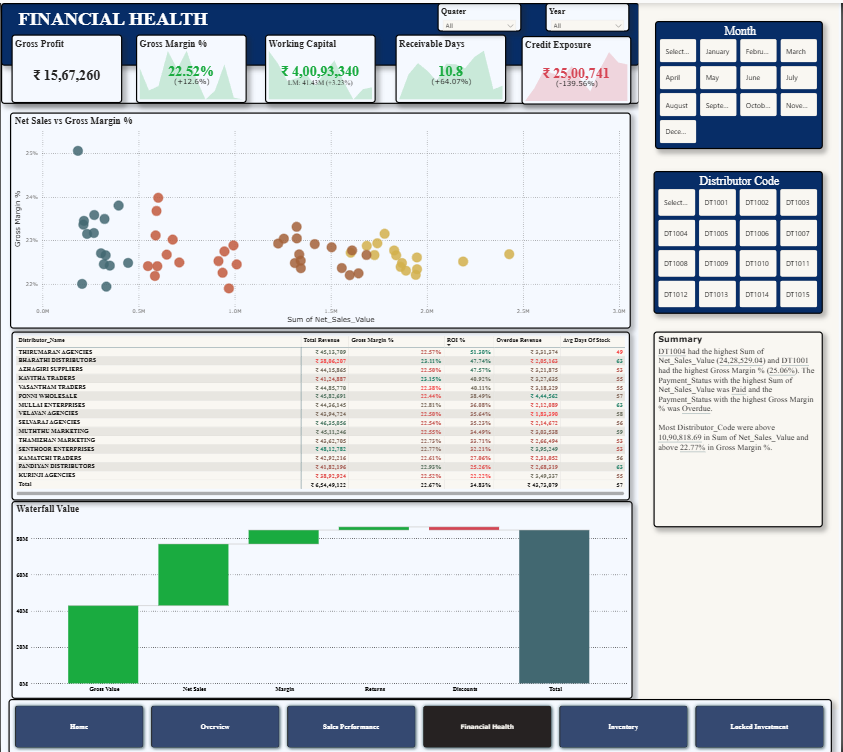

Layout of this report page (visuals, bound fields, positions):
{"tool":"powerbi","page":{"name":"Financial Health","canvas":[1900,1700],"ordinal":3},"visuals":[{"type":"textbox","box":[0,60,1445,167.5],"z":0},{"type":"shape","box":[0,0,1445,142.2],"z":1000},{"type":"textbox","box":[1441.8,0,453.1,1599.1],"z":1000,"group":"g1"},{"type":"waterfallChart","title":"Waterfall Value","fields":{"Category":["Waterfall.STEP"],"Y":["Waterfall.Waterfall Value"]},"box":[23.8,1127.3,1405.8,448.2],"z":2000},{"type":"pivotTable","fields":{"Rows":["Distirbutor.Distributor_Name"],"Values":["_Measures.Total Revenue","_Measures.Gross Margin %","_Measures.ROI %","_Measures.Overdue Revenue","_Measures.Avg Days Of Stock"]},"box":[22.5,742.5,1400,382.5],"z":3000},{"type":"scatterChart","title":"Net Sales vs Gross Margin %","fields":{"X":["Sum(Raw_Sales_Revenue.Net_Sales_Value)"],"Y":["_Measures.Gross Margin %"],"Category":["Distirbutor.Distributor_Code"],"Series":["Raw_Sales_Revenue.Payment_Status"]},"box":[20.4,247.9,1405,489],"z":4000},{"type":"kpi","title":"Credit Exposure","fields":{"Indicator":["_Measures.Credit Exposure"],"Goal":["_Measures.Credit Exposure Target"],"TrendLine":["Dim_Date.Date.Variation.Date Hierarchy.Month"]},"box":[1179.5,74.3,248.4,155.6],"z":6000},{"type":"kpi","title":"Receivable Days ","fields":{"Indicator":["_Measures.Receivable Days"],"Goal":["_Measures.Receivable Days Target"],"TrendLine":["Dim_Date.Date.Variation.Date Hierarchy.Month"]},"box":[893.9,72,250.8,155.6],"z":7000},{"type":"advancedSlicerVisual","title":"Month","fields":{"Values":["Dim_Date.Date.Variation.Date Hierarchy.Month"]},"box":[1479,40,380,290],"z":8000,"group":"g1"},{"type":"kpi","title":"Working Capital ","fields":{"Indicator":["_Measures.Working Capital"],"TrendLine":["Dim_Date.Date.Variation.Date Hierarchy.Month"],"Goal":["_Measures.Last Month Working Capital"]},"box":[596.7,72,250.8,155.6],"z":8000},{"type":"kpi","title":"Gross Margin % ","fields":{"Indicator":["_Measures.Gross Margin %"],"Goal":["_Measures.Target Margin"],"TrendLine":["Dim_Date.Date.Variation.Date Hierarchy.Month"]},"box":[306.5,72,250.8,155.6],"z":9000},{"type":"advancedSlicerVisual","title":"Distributor Code","fields":{"Values":["Distirbutor.Distributor_Code"]},"box":[1475.7,380,383.3,323.3],"z":9000,"group":"g1"},{"type":"kpi","title":"Gross Profit","fields":{"Indicator":["_Measures.Gross Profit"],"TrendLine":["Dim_Date.Date.Variation.Date Hierarchy.Month"]},"box":[23.2,72,250.8,155.6],"z":10000},{"type":"slicer","title":"Year","fields":{"Values":["Dim_Date.Year"]},"box":[1232.6,0,190.2,64.5],"z":10250},{"type":"slicer","title":"Quater","fields":{"Values":["Dim_Date.Quarter"]},"box":[988.1,0,190.2,64.5],"z":10375},{"type":"group","id":"g1","title":"Group 2","box":[1441.8,0,453.1,1599.1],"z":11000},{"type":"textbox","title":"Summary","box":[1476.7,743.3,383.3,443.3],"z":12000},{"type":"pageNavigator","box":[17,1575.5,1864.2,125.6],"z":13000},{"type":"textbox","box":[32.7,5.8,523.1,65.4],"z":14000}]}

Visuals, with their boxes in screenshot pixels (x1, y1, x2, y2), scaled from the page's 1900x1700 canvas onto the 843x752 screenshot:
textbox: <region>0, 27, 641, 101</region>
shape: <region>0, 0, 641, 63</region>
textbox: <region>640, 0, 841, 707</region>
"Waterfall Value" waterfallChart: <region>11, 499, 634, 697</region>
pivotTable - Distirbutor.Distributor_Name x _Measures.Total Revenue: <region>10, 328, 631, 498</region>
"Net Sales vs Gross Margin %" scatterChart: <region>9, 110, 632, 326</region>
"Credit Exposure" kpi: <region>523, 33, 634, 102</region>
"Receivable Days " kpi: <region>397, 32, 508, 101</region>
"Month" advancedSlicerVisual: <region>656, 18, 825, 146</region>
"Working Capital " kpi: <region>265, 32, 376, 101</region>
"Gross Margin % " kpi: <region>136, 32, 247, 101</region>
"Distributor Code" advancedSlicerVisual: <region>655, 168, 825, 311</region>
"Gross Profit" kpi: <region>10, 32, 122, 101</region>
"Year" slicer: <region>547, 0, 631, 29</region>
"Quater" slicer: <region>438, 0, 523, 29</region>
"Group 2" group: <region>640, 0, 841, 707</region>
"Summary" textbox: <region>655, 329, 825, 525</region>
pageNavigator: <region>8, 697, 835, 751</region>
textbox: <region>15, 3, 247, 31</region>
